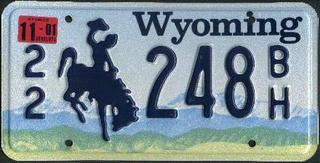placa de veiculo: (8, 0, 312, 160)
